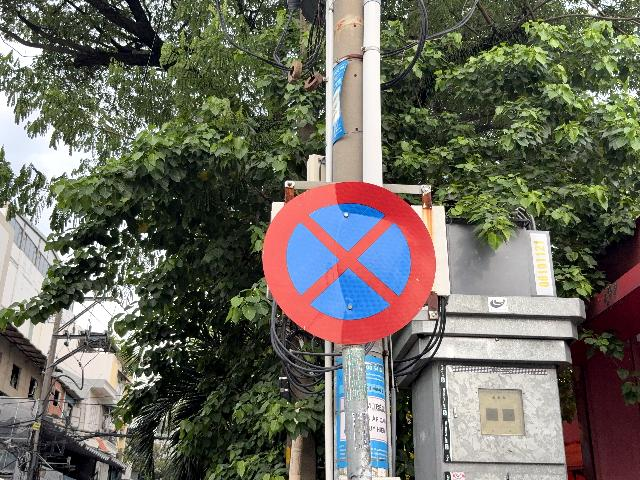cam-dung-va-do-xe: (263, 181, 438, 346)
